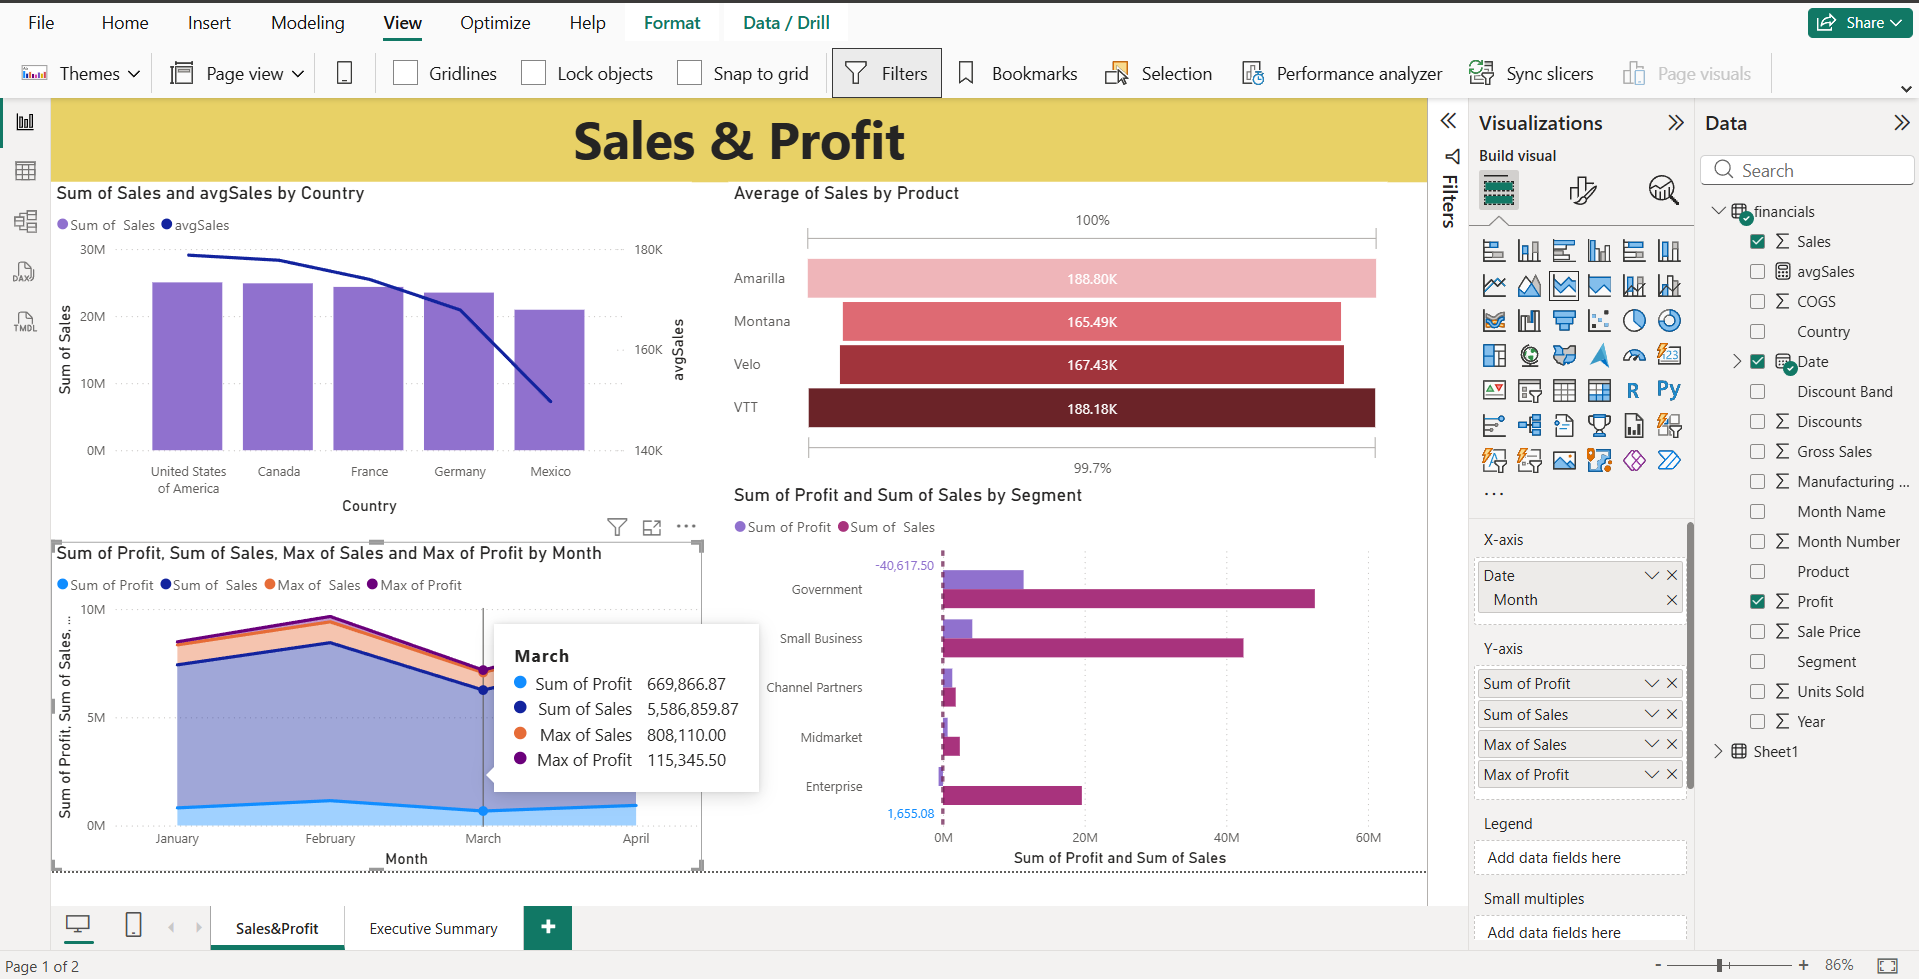

This screenshot's page, from the dashboard's own definition file:
{"tool":"powerbi","page":{"name":"Sales&Profit","canvas":[1280,720],"ordinal":0},"visuals":[{"type":"textbox","box":[0,0,1280.3,78.3],"z":0},{"type":"lineClusteredColumnComboChart","fields":{"Category":["financials.Country"],"Y":["Sum(financials. Sales)"],"Y2":["financials.avgSales"]},"box":[0,77.8,596.2,314.5],"z":1000},{"type":"stackedAreaChart","fields":{"Category":["financials.Date.Variation.Date Hierarchy.Month"],"Y":["Sum(financials.Profit)","Sum(financials. Sales)","Max(financials. Sales)","Max(financials.Profit)"]},"box":[0,412.5,606.4,307.7],"z":2000},{"type":"funnel","fields":{"Category":["financials.Product"],"Y":["Avg(financials. Sales)"]},"box":[629.8,78.3,612.6,281.3],"z":3000},{"type":"clusteredBarChart","fields":{"Category":["financials.Segment"],"Y":["Sum(financials.Profit)","Sum(financials. Sales)"]},"box":[630.1,359.6,612,360.7],"z":4000}]}

Visuals, with their boxes on the page's 1280x720 design canvas (x1, y1, x2, y2). These are canvas units, not pixel positions in the 1919x979 screenshot, which may show the page scaled, cropped or inside an application window:
textbox: [x1=0, y1=0, x2=1280, y2=78]
lineClusteredColumnComboChart - financials.Country x Sum(financials. Sales): [x1=0, y1=78, x2=596, y2=392]
stackedAreaChart - financials.Date.Variation.Date Hierarchy.Month x Sum(financials.Profit): [x1=0, y1=412, x2=606, y2=720]
funnel - financials.Product x Avg(financials. Sales): [x1=630, y1=78, x2=1242, y2=360]
clusteredBarChart - financials.Segment x Sum(financials.Profit): [x1=630, y1=360, x2=1242, y2=720]
